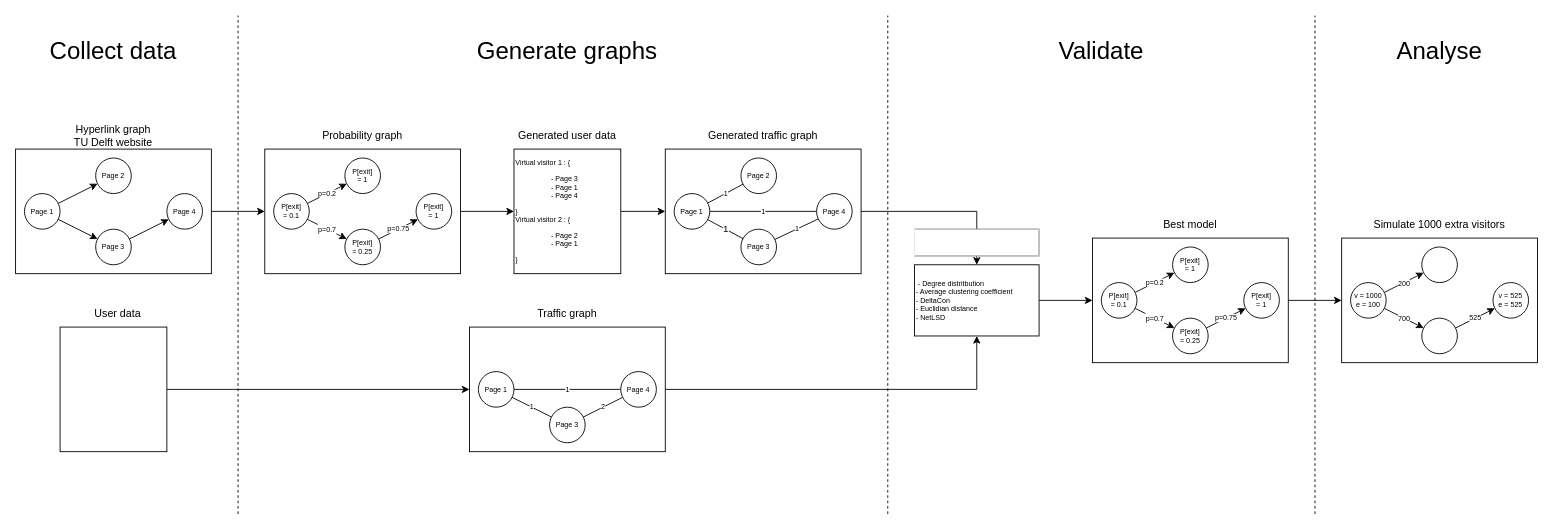
The diagram is 1553 pixels wide and 530 high, and some of its shapes have lost their labels. Each missing label, with the box of its shape:
Comparison metrics: (914, 228, 1039, 256)
v = 200 e = 200: (1421, 246, 1457, 283)
v = 700 e = 170: (1421, 317, 1457, 354)
Visitor 1 : { - Page 3 - Page 1 - Page 4 } Visitor 2 : { - Page 4 - Page 3 }: (59, 326, 167, 452)
